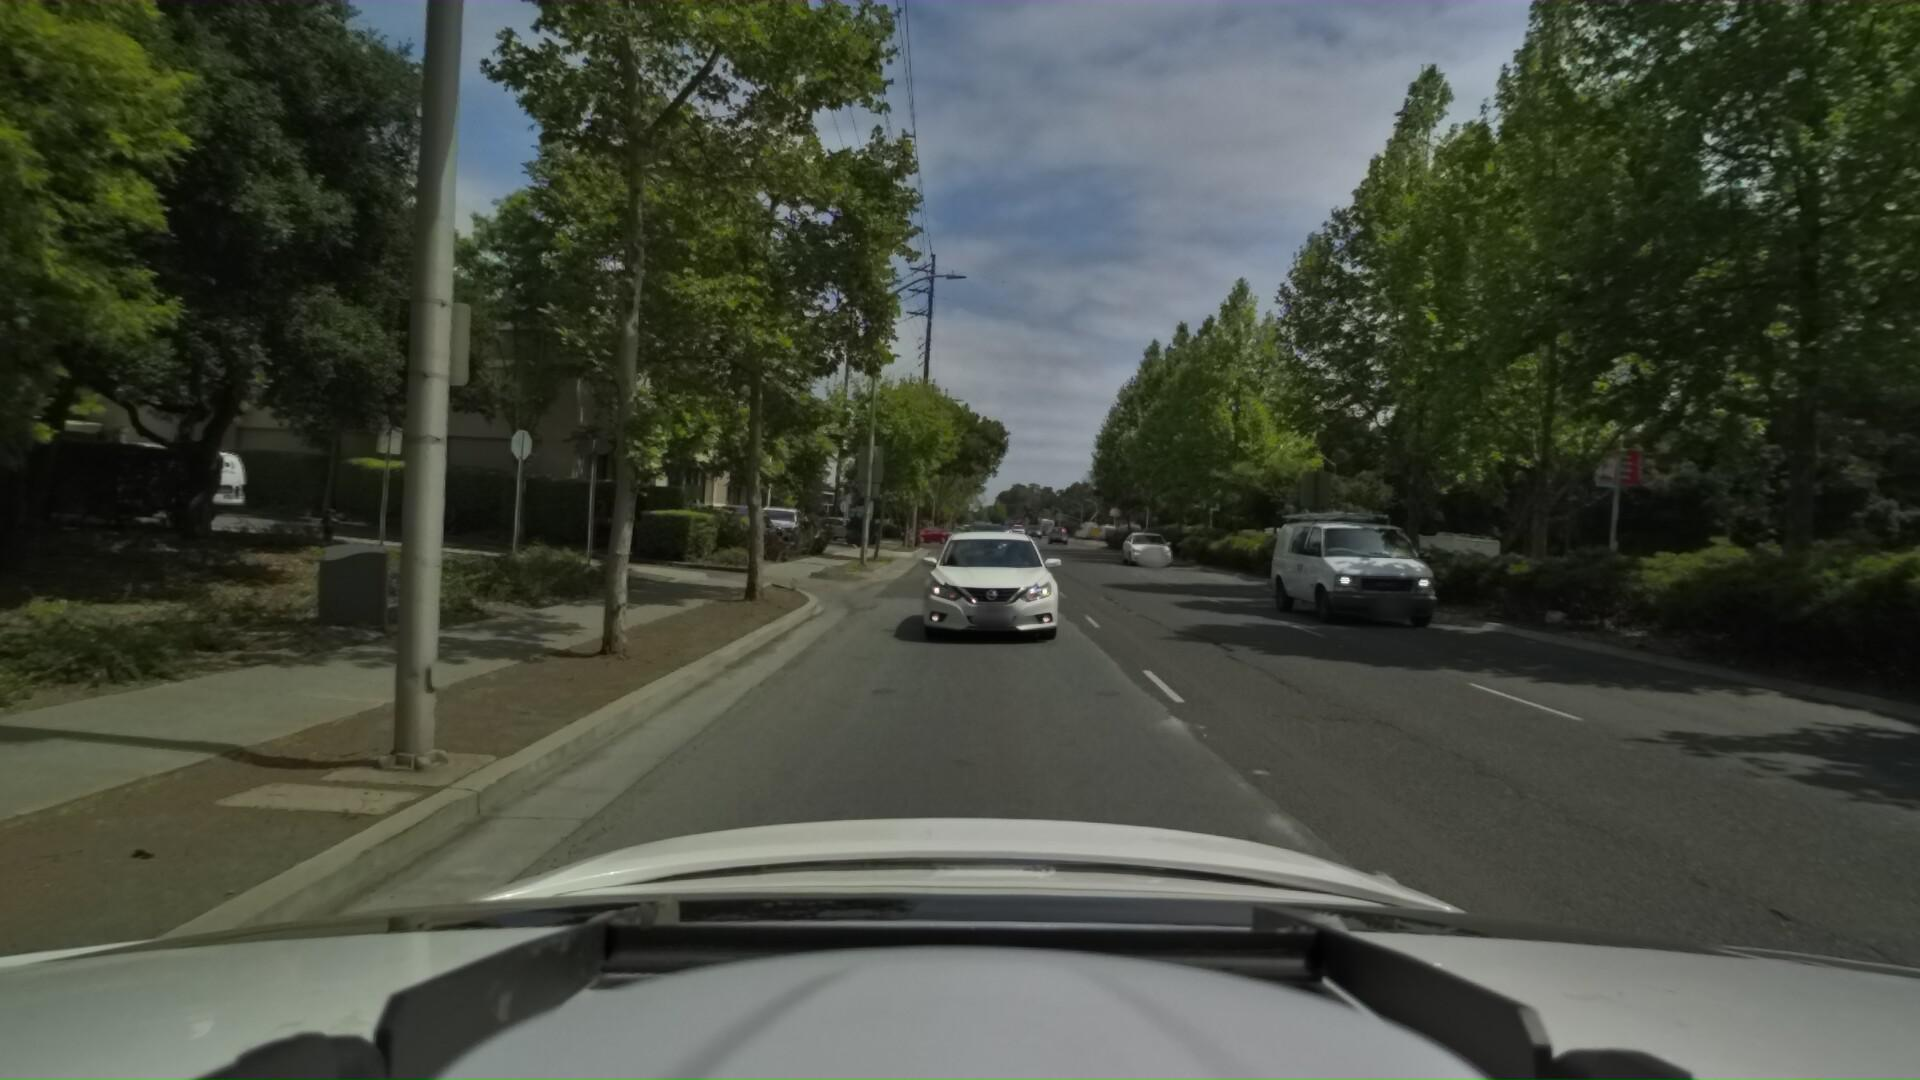car: (1259, 487, 1455, 628), (901, 518, 1075, 655), (47, 436, 266, 525), (744, 500, 814, 550), (1114, 513, 1175, 568), (960, 518, 1011, 563), (884, 513, 945, 545)
other_vehicle: (1387, 524, 1509, 589)
